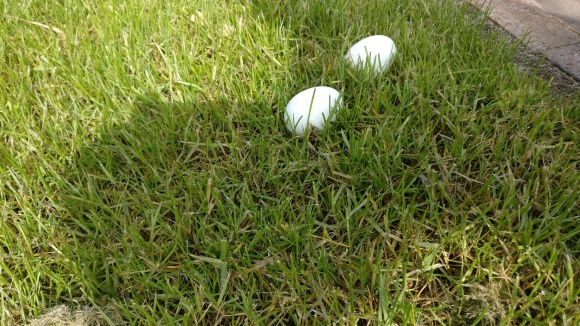egg: (283, 84, 346, 136), (344, 35, 396, 78)
